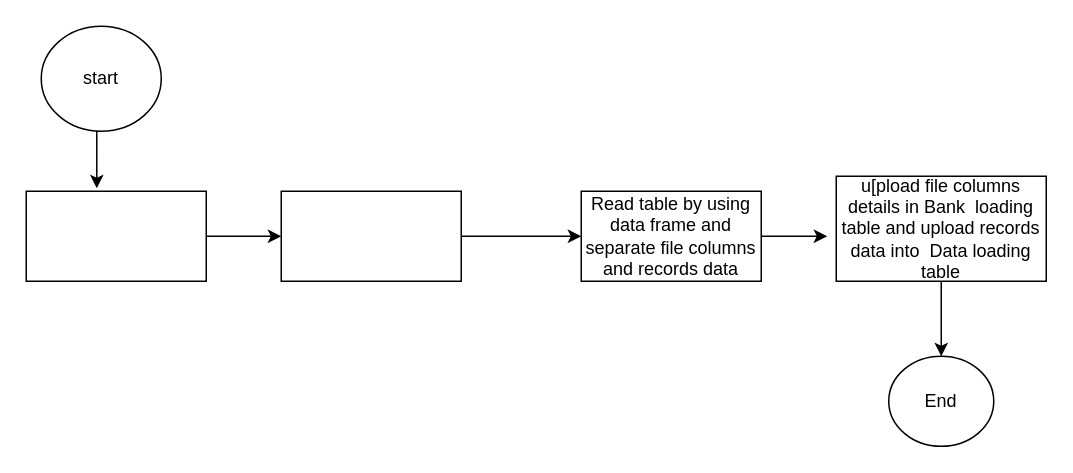
Some shapes in this 1073 by 473 pixel diagram are drawn without their labels. The shapes that lost their labels are listed below. From the top down, each one's centre as x and y in pixels, then its label:
At point (115, 235): "Recevied files from Email".
At point (370, 235): "check the mail and load the file from mail and save the file in local folder".
